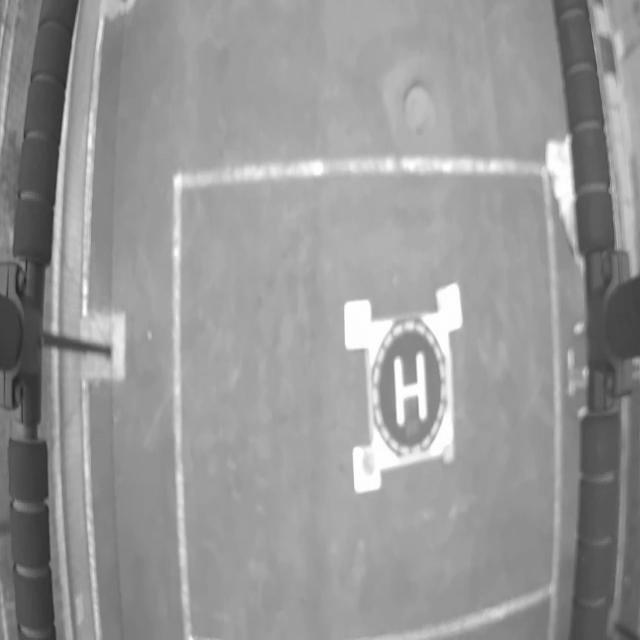Helipad: (393, 352, 428, 428)
